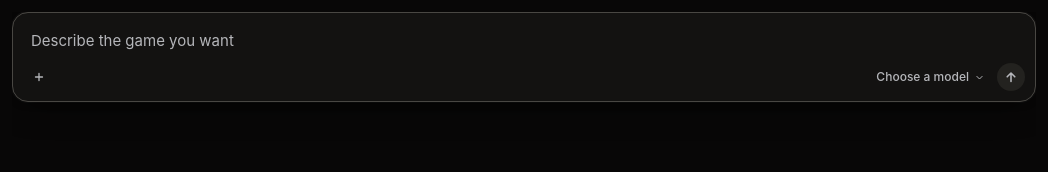
Test: the in-chat variant › filters the live provider command catalogue and inserts a selection
Type "/sh" into the text box named "Message the agent" at {"x": 524, "y": 36}, box [13,13,1035,59]
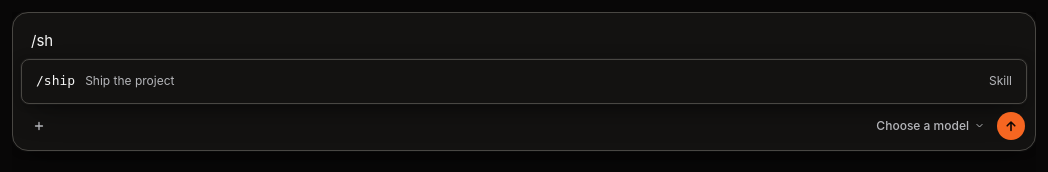
Click the option "/ship Ship the project Skill" at {"x": 59, "y": 80}, box [26,64,1022,99]
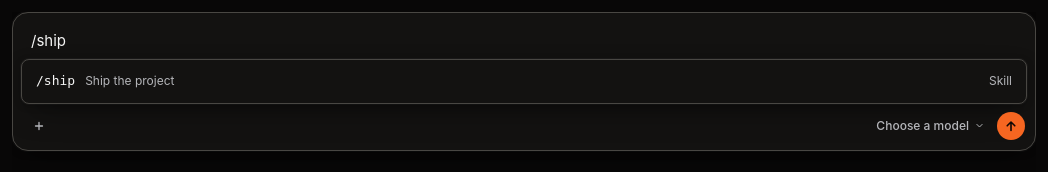
Expected: the text box named "Message the agent" holds "/ship", [13,13,1035,59]
